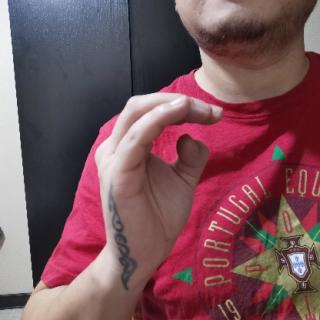JEEM: (86, 84, 222, 293)
